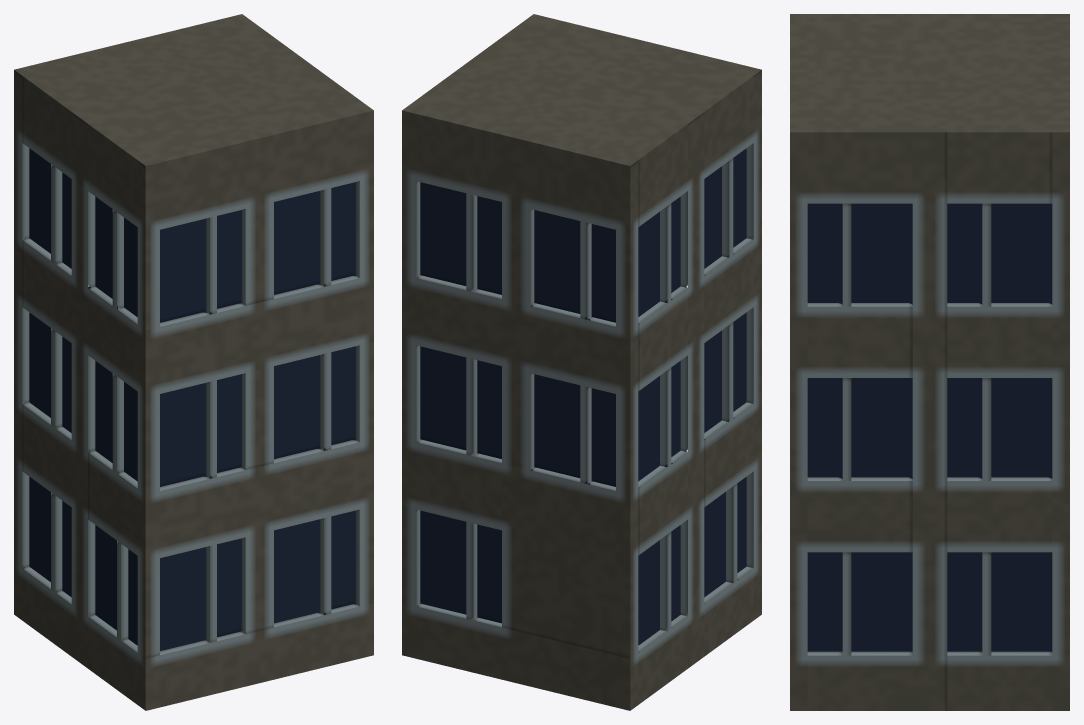
File: budynek_uni2_3.dae
3 views of the same model, side by side, from view 1: azimuth 30°, elevation 25°; view 2: azimuth 150°, elevation 25°; view 3: azimuth 270°, elevation 25° (orthographic). The views are drawn at different scales.
Visible parts, largest first — view 1: Content; view 2: Content; view 3: Content.
Boxes of the visible parts, x1,y1,x2,y2 form: Content: (14, 14, 373, 710); Content: (402, 14, 761, 710); Content: (790, 14, 1069, 710).
Size of the model in its own units: 32 by 73 by 32.
Materials: 1 (1 with a texture image).
